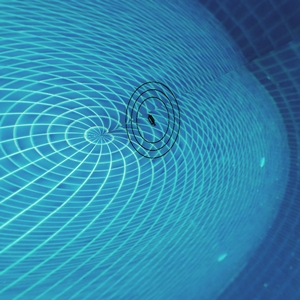circle: (124, 80, 188, 165)
submarine: (149, 116, 154, 123)
